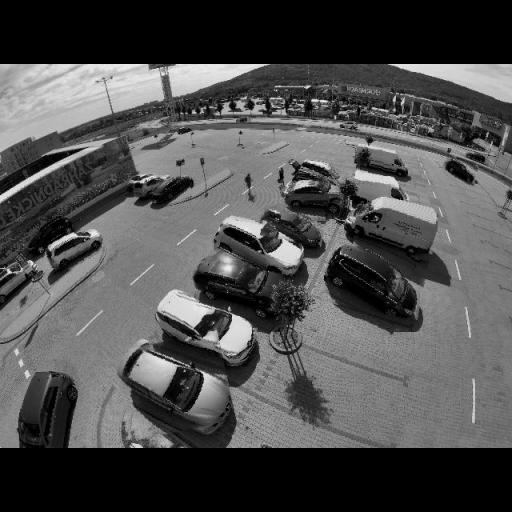busy: (117, 336, 232, 437), (155, 288, 258, 370), (324, 247, 426, 316), (192, 252, 286, 314), (214, 218, 304, 274), (14, 370, 77, 448), (353, 206, 436, 252), (44, 227, 102, 272), (261, 206, 326, 244), (280, 178, 342, 211), (283, 158, 347, 184), (356, 150, 410, 176), (150, 177, 191, 202), (127, 172, 166, 198), (440, 160, 478, 184)
free: (314, 372, 372, 425), (342, 319, 394, 363), (364, 246, 410, 269), (280, 204, 325, 223), (357, 170, 395, 188), (484, 232, 506, 250), (493, 248, 512, 266), (472, 206, 488, 218), (467, 195, 480, 208), (484, 222, 500, 232)
